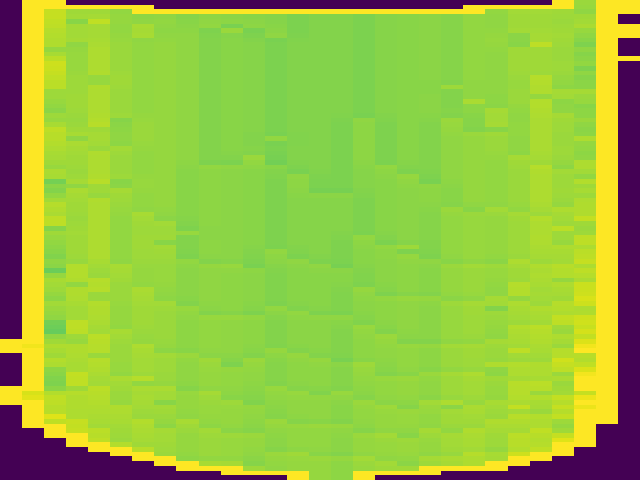cylinder: (5, 3, 640, 480)
